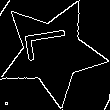L_E: (25, 33, 80, 71)
